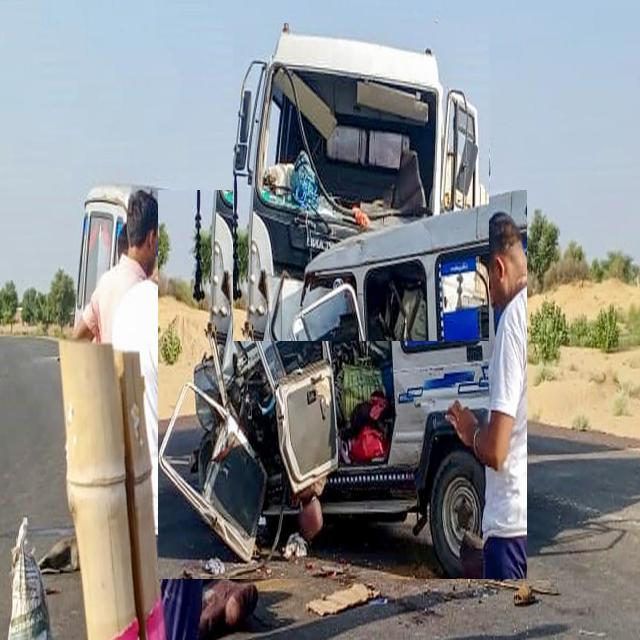accident: (159, 191, 527, 579), (234, 24, 489, 341)
